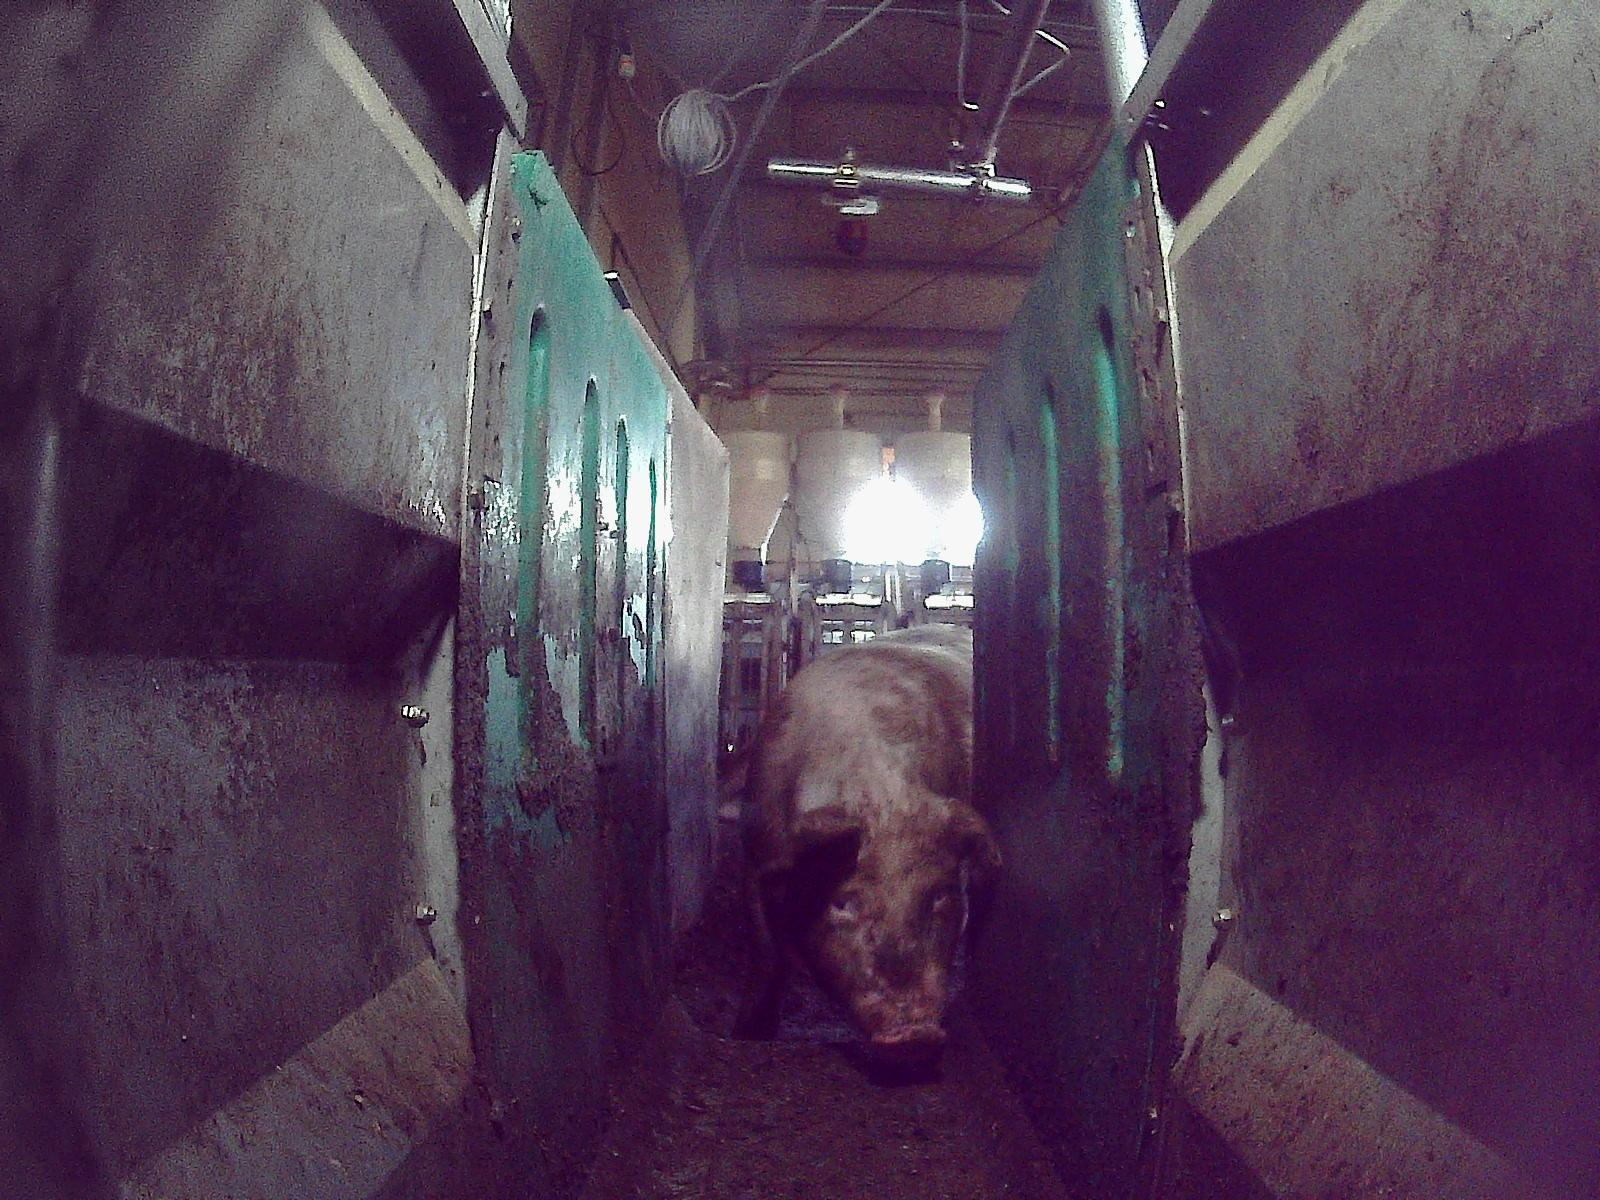Face: (790, 814, 968, 1059)
